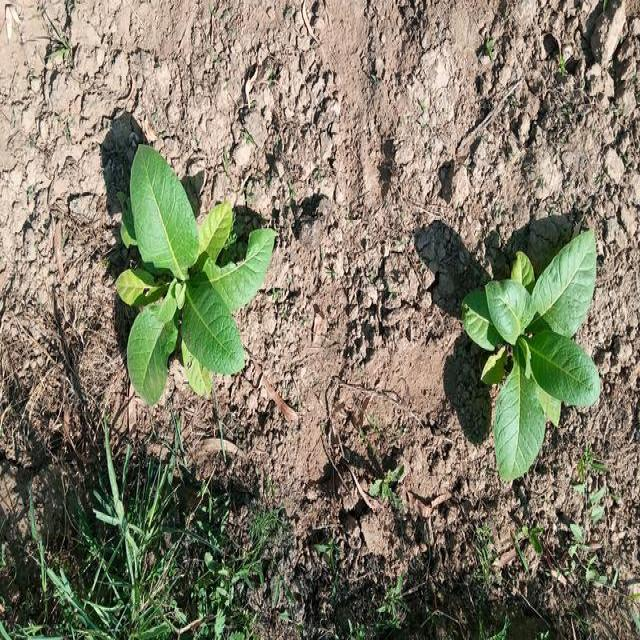crop: (110, 146, 262, 412), (473, 242, 608, 510)
